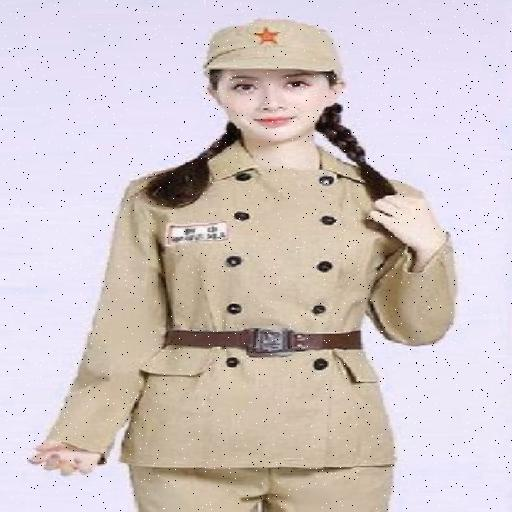north army: (77, 20, 449, 512)
